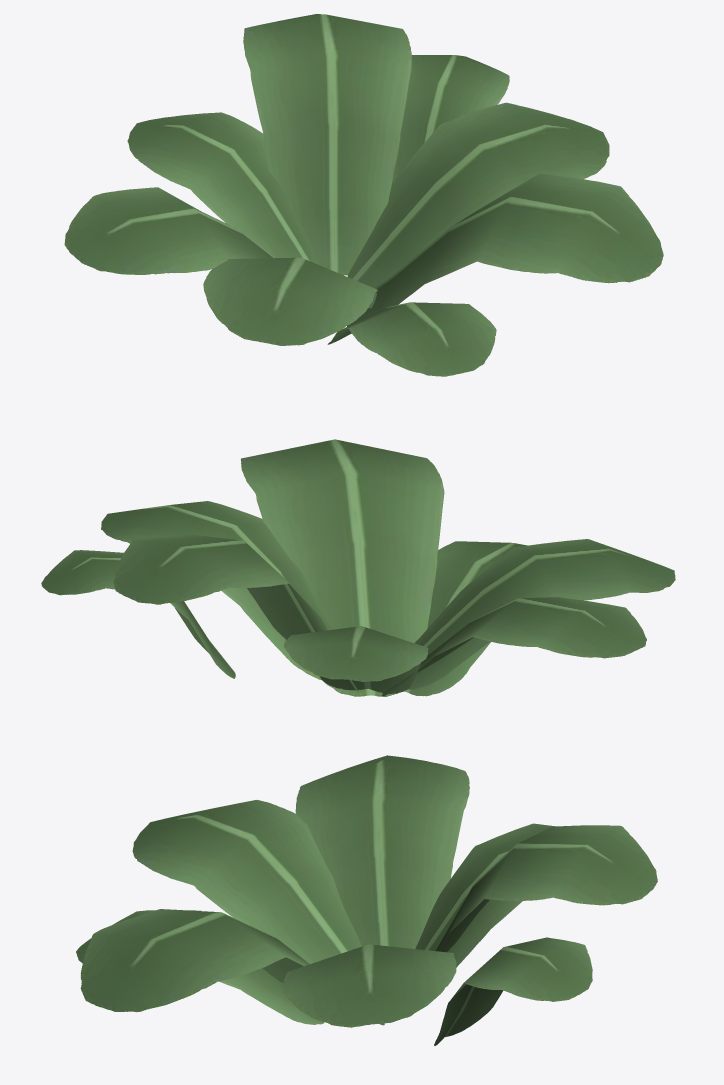
File: plant_2.glb
3 renders of one model, top to bottom at view 1: azimuth 30°, elevation 25°; view 2: azimuth 150°, elevation 25°; view 3: azimuth 270°, elevation 25°, orthographic. The views are drawn at different scales.
Parts seen in each view (by area): view 1: Plant_2; view 2: Plant_2; view 3: Plant_2.
Boxes of the visible parts, bbox=[...] form: Plant_2: bbox=[64, 14, 663, 376]; Plant_2: bbox=[41, 439, 675, 696]; Plant_2: bbox=[76, 755, 657, 1045].
Bounding box in the file's own units: 1.4 × 0.552 × 1.47.
Materials: 1 (1 with a texture image).
